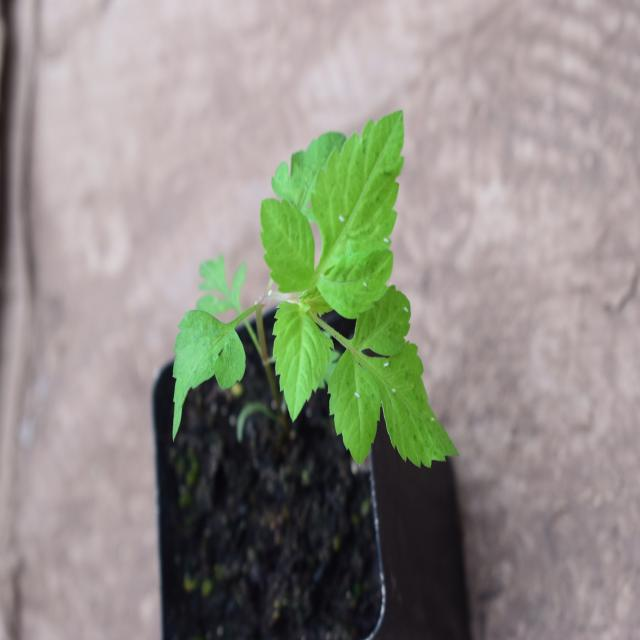Bidens pilosa: (158, 86, 456, 487)
